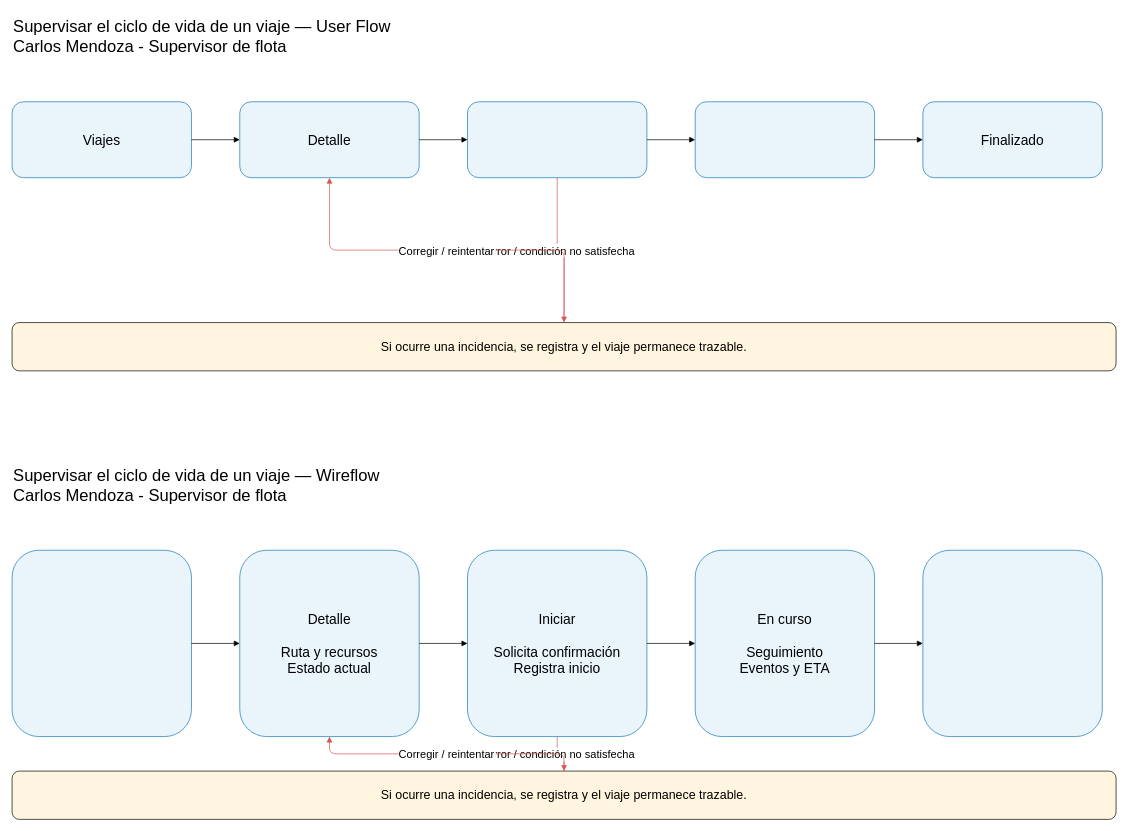
This 1128x831 diagram has some shape labels left out. Each missing label, with the centre of its shape:
"En curso" goes at [784,139].
"Finalizado Cierra operación Guarda historial" goes at [1012,643].
"Iniciar" goes at [557,139].
"Viajes Filtra por estado Selecciona operación" goes at [101,643].
